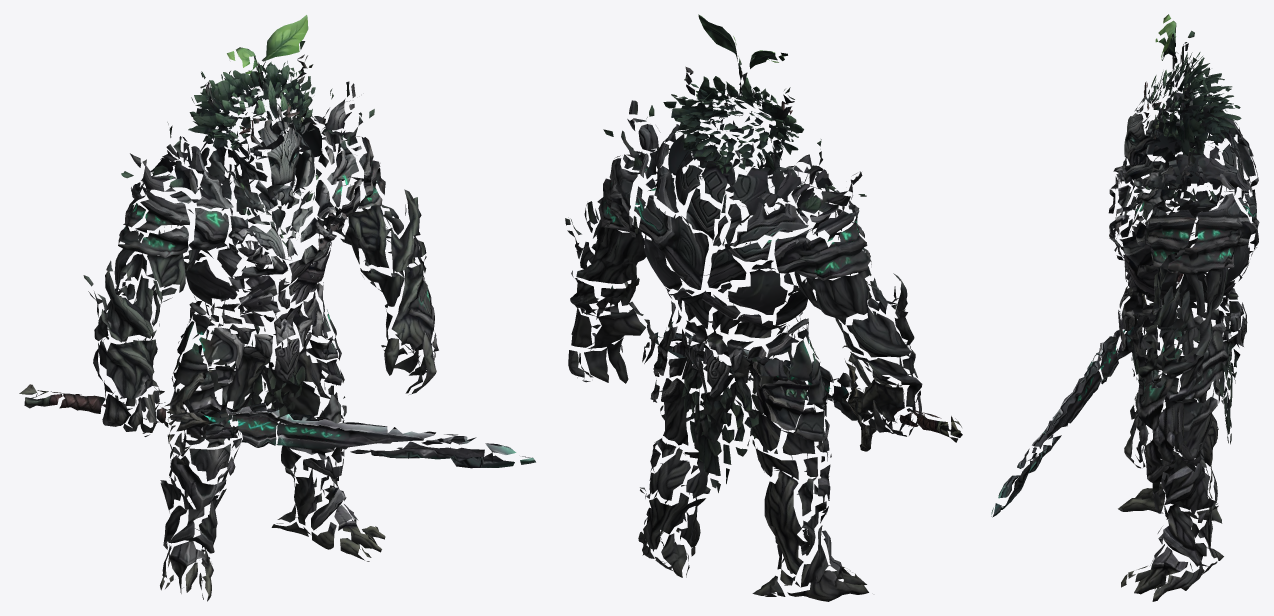
File: hero_stage2.glb
3 views of the same model, side by side, from view 1: azimuth 30°, elevation 25°; view 2: azimuth 150°, elevation 25°; view 3: azimuth 270°, elevation 25° (orthographic). The views are drawn at different scales.
Visible parts, largest first — view 1: fantasy_tree_knight_3d_model; view 2: fantasy_tree_knight_3d_model; view 3: fantasy_tree_knight_3d_model.
Part boxes in pixels (bbox=[...]): fantasy_tree_knight_3d_model: bbox=[19, 15, 535, 601]; fantasy_tree_knight_3d_model: bbox=[565, 14, 962, 601]; fantasy_tree_knight_3d_model: bbox=[991, 14, 1259, 601].
Bounding box in the file's own units: 0.7864 × 0.9774 × 0.4434.
Materials: 1 (1 with a texture image).
